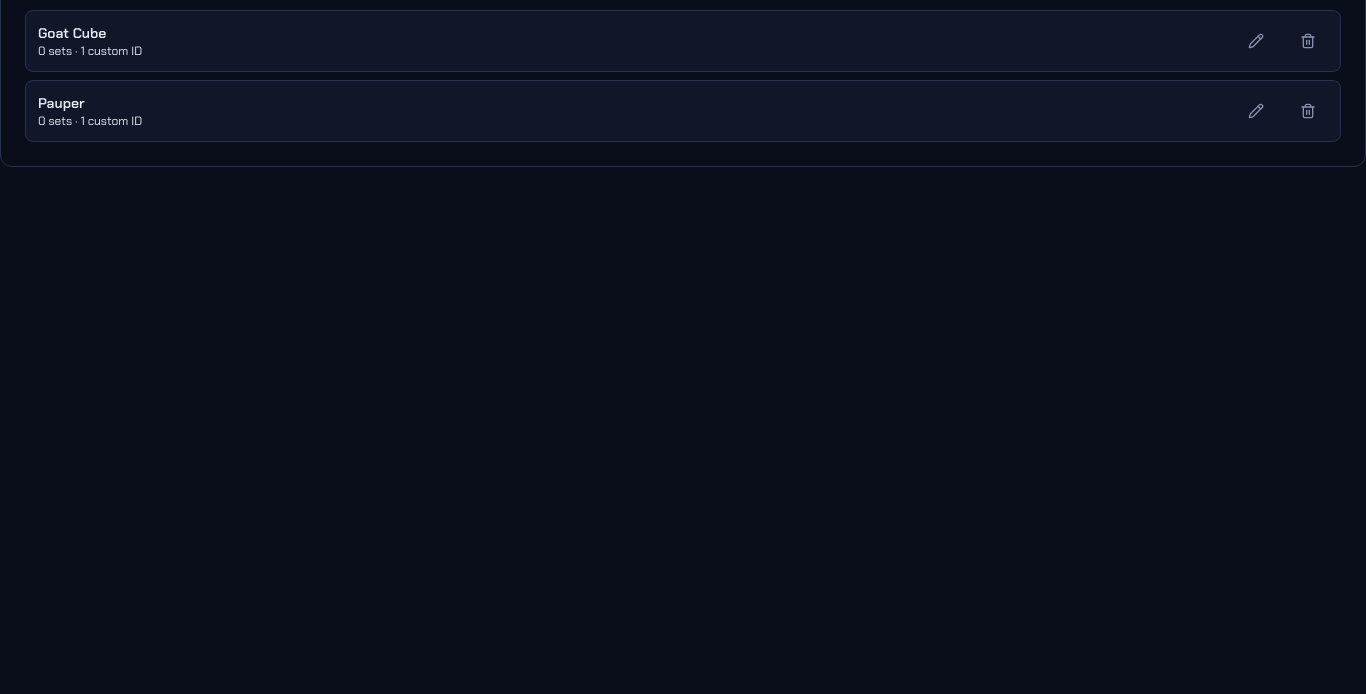
Test: CardPoolManager › surfaces a 409 rename collision
This screenshot has width=1366, height=694.
Expected: the text "Goat Cube" is shown, 38,24 -> 106,42
Click the button named "edit pool goat cube": coordinates (1256, 41) 1236,25 -> 1276,57
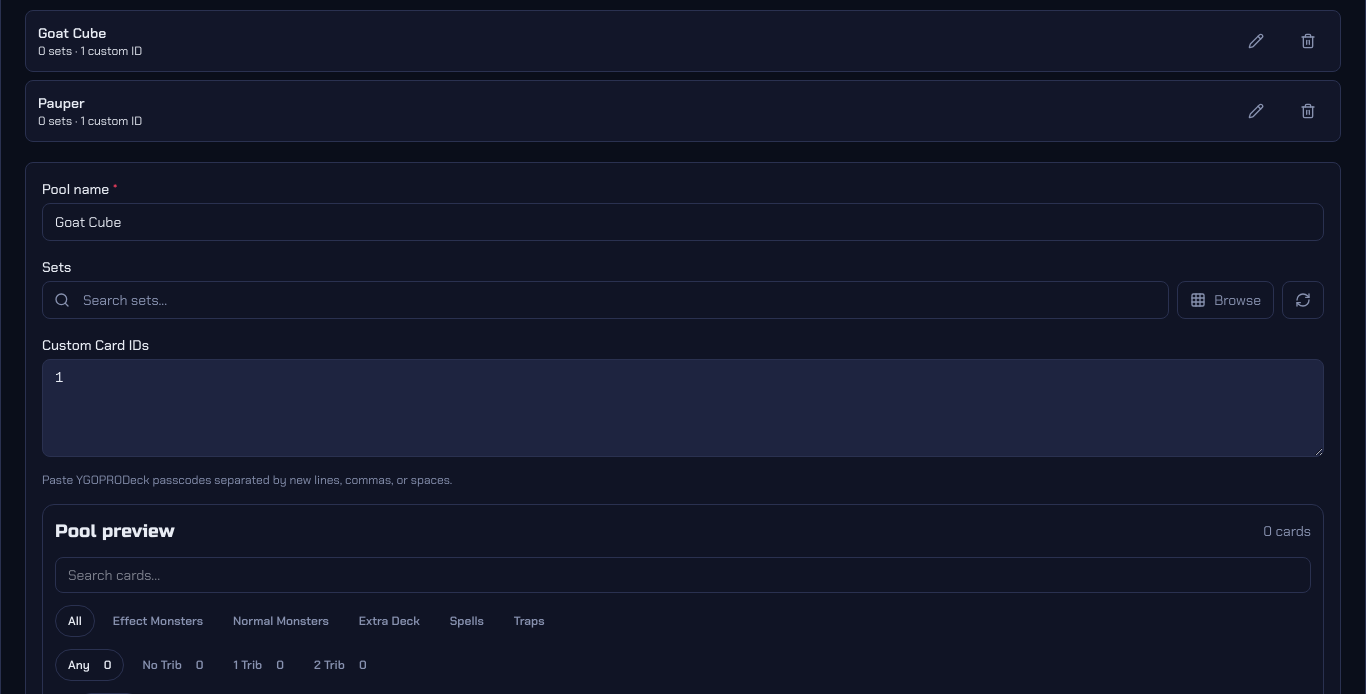
Replace the text in the field labelled "Pool name *" with "Pauper": coordinates (683, 222) 42,203 -> 1324,241
(page scrolled)
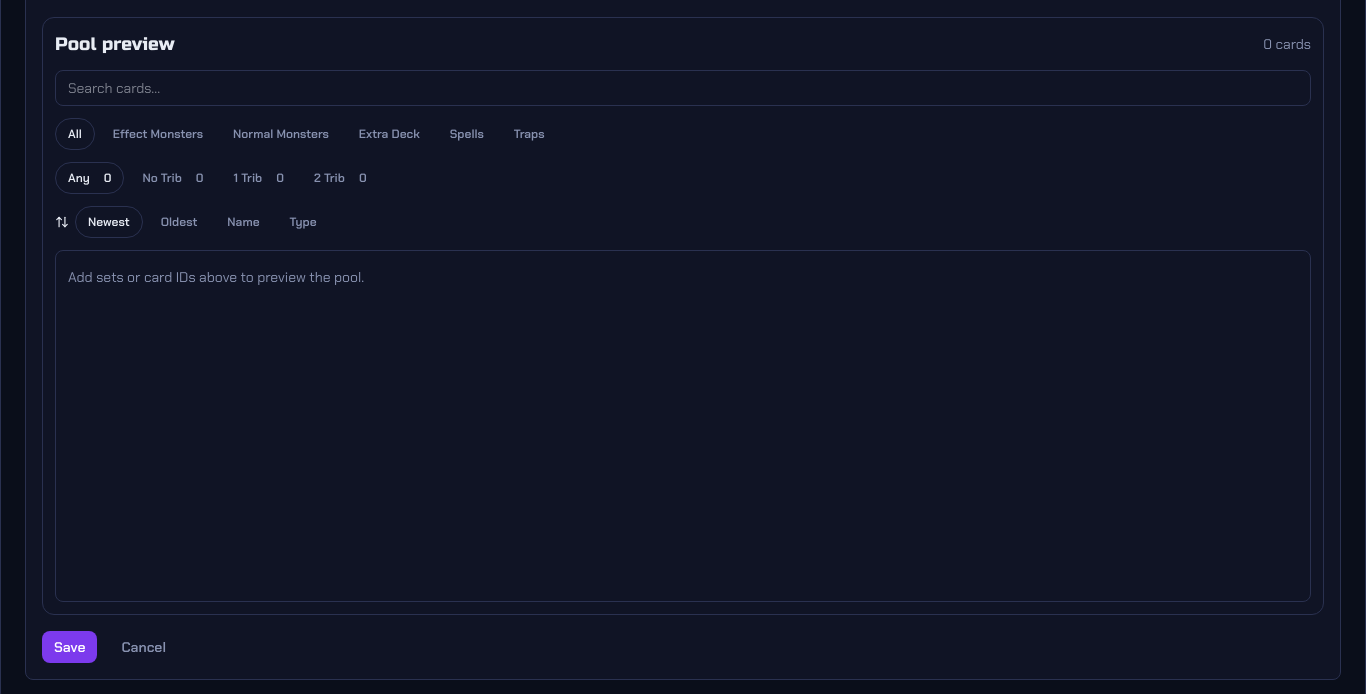
Click the button "Save": coordinates (70, 647) 42,631 -> 98,663
(page scrolled)
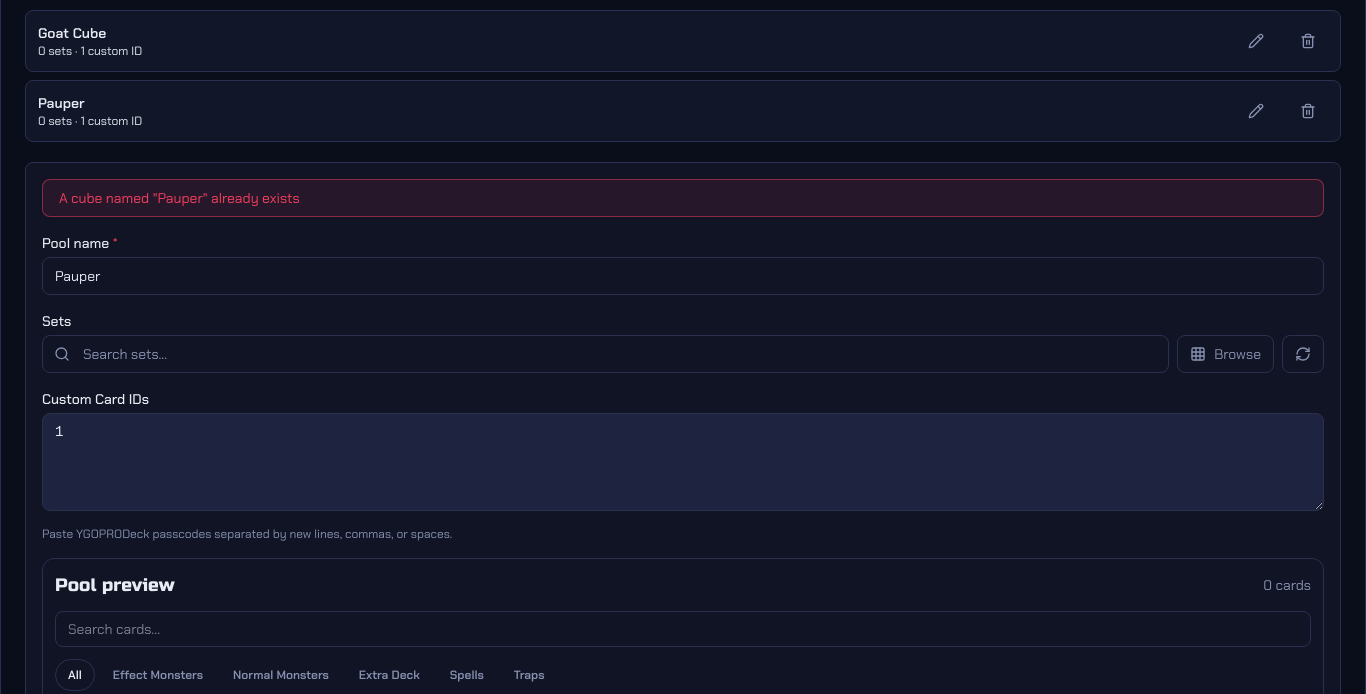
Expected: the text "A cube named \"Pauper\" already exists" is shown, 42,179 -> 1324,217
